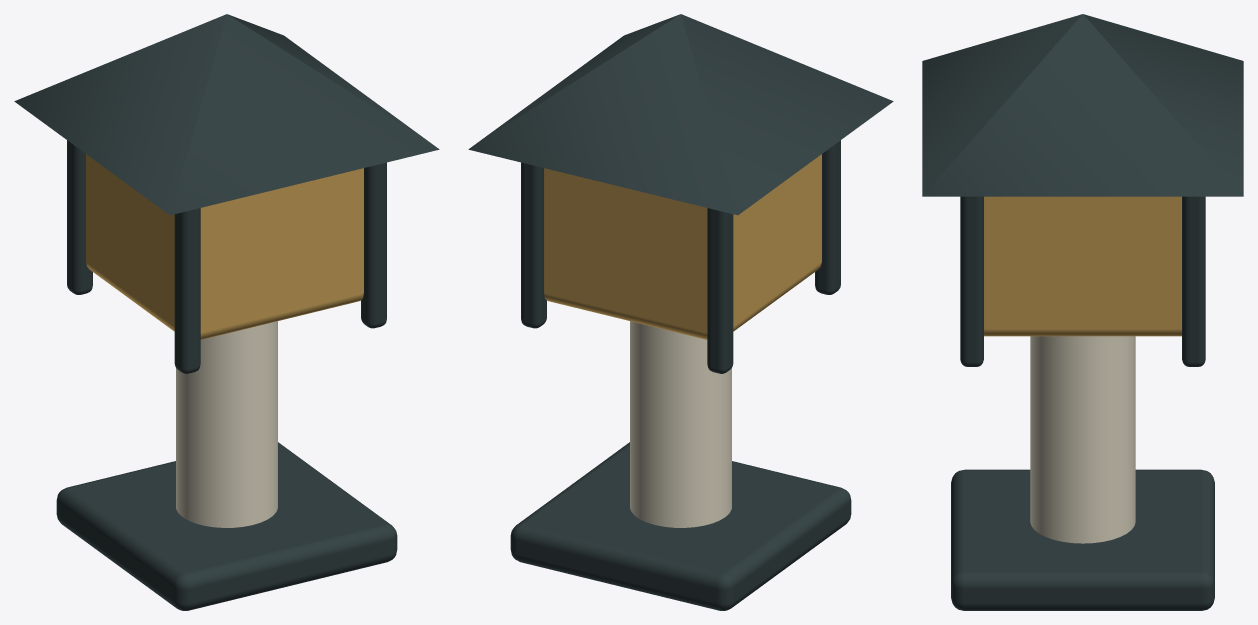
File: lantern.glb
The picture shows the model from 3 angles, left to right: view 1: azimuth 30°, elevation 25°; view 2: azimuth 150°, elevation 25°; view 3: azimuth 270°, elevation 25°; orthographic projection. The views are drawn at different scales.
Visible parts, largest first — view 1: lantern; view 2: lantern; view 3: lantern.
Part boxes in pixels (<box>): lantern: <box>14,14,439,610</box>; lantern: <box>468,14,893,610</box>; lantern: <box>922,14,1243,610</box>.
Bounding box in the file's own units: 0.6081 × 1.14 × 0.6081.
